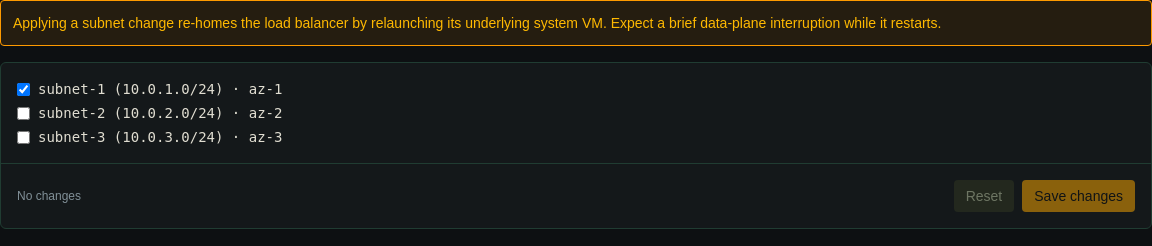
SubnetsEditor › Reset reverts selection back to initial
Click the checkbox named "Subnet subnet-2": (24, 113) [17,106,30,120]
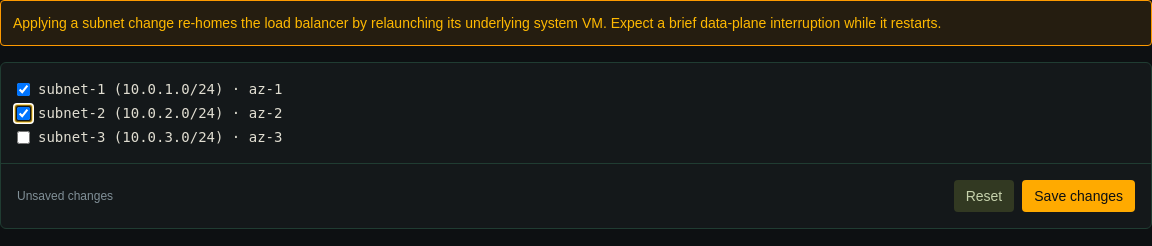
Check: the text "Unsaved changes" is shown, box [17,188,113,204]
Click the button "Reset": (984, 196) [954,180,1014,212]
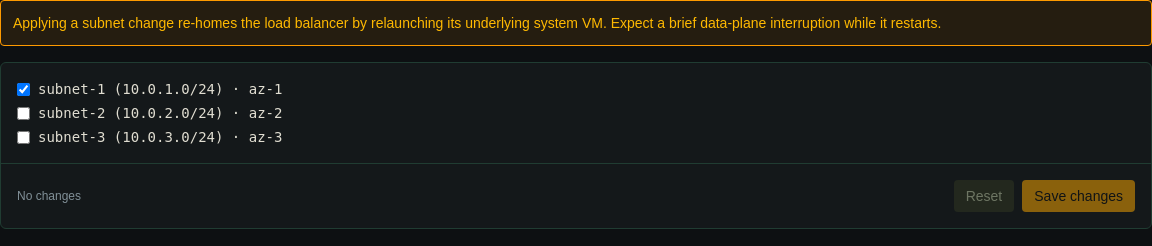
Check: the checkbox named "Subnet subnet-2" is not checked, box [17,106,30,120]
Check: the text "No changes" is shown, box [17,188,81,204]
